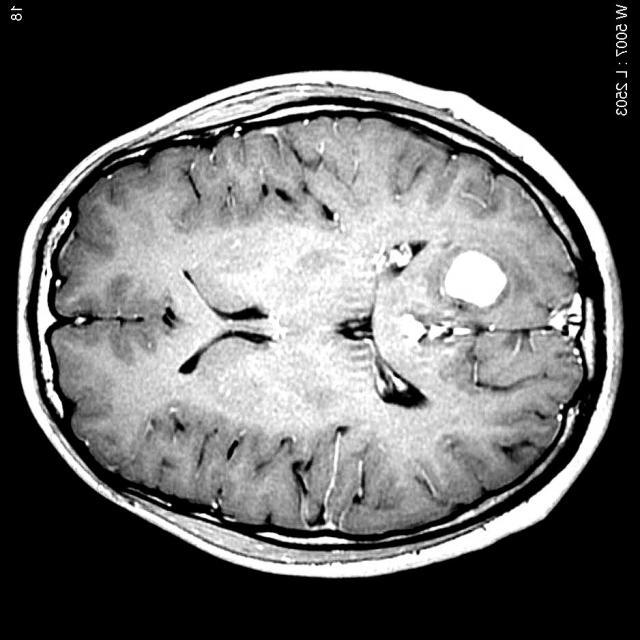tumor: (444, 247, 512, 311)
